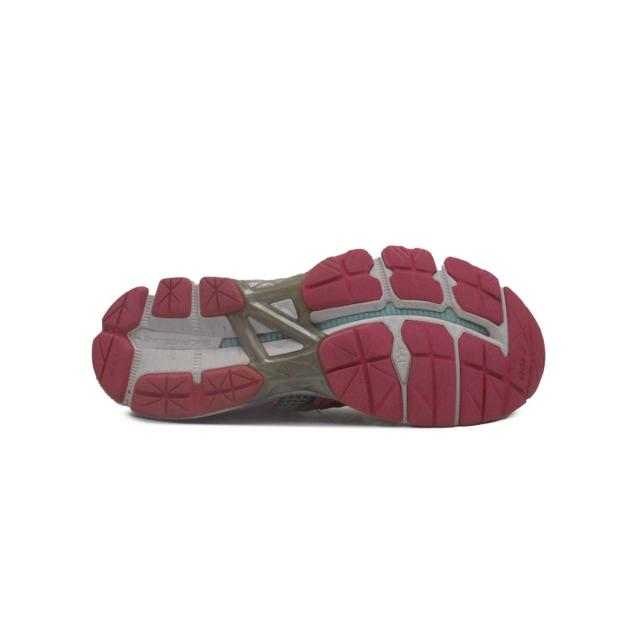outersole: (93, 245, 544, 422)
